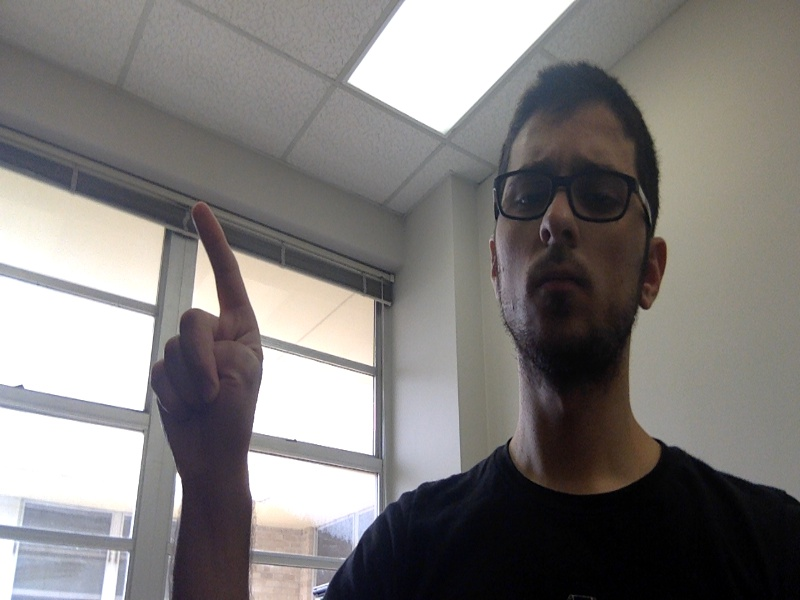1-hand: (150, 203, 261, 459)
